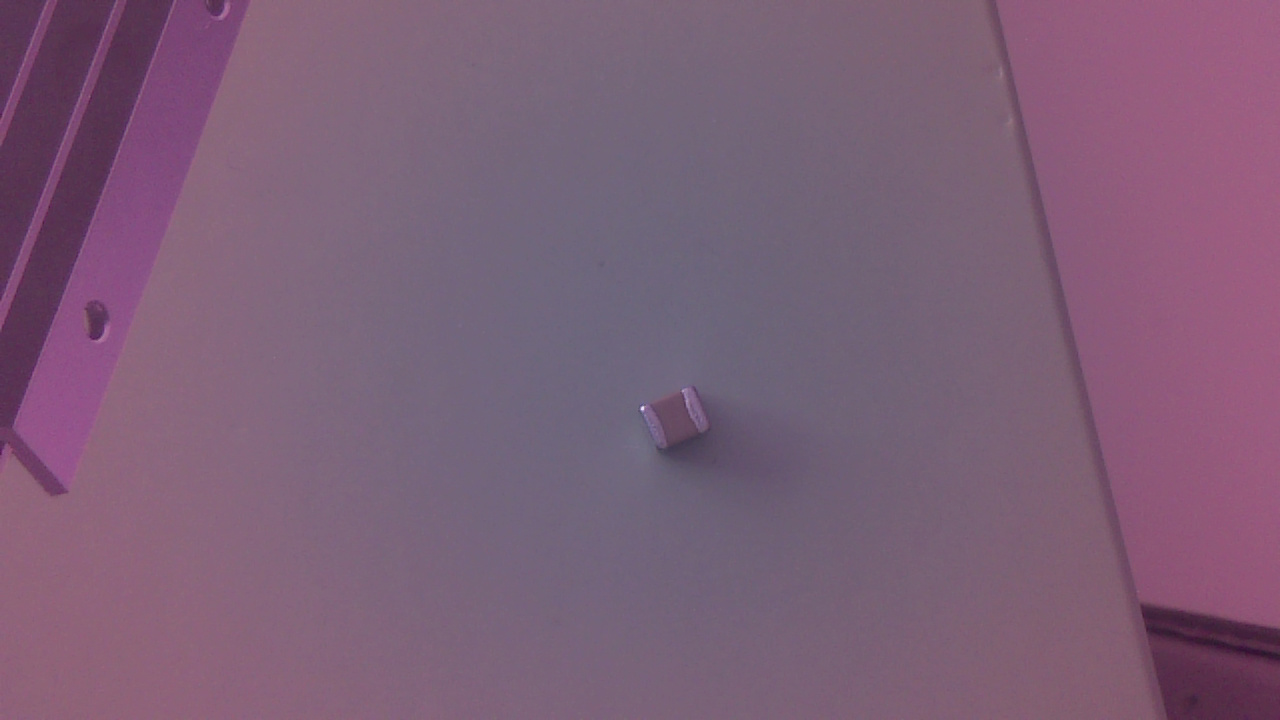Condensator: (637, 387, 724, 461)
